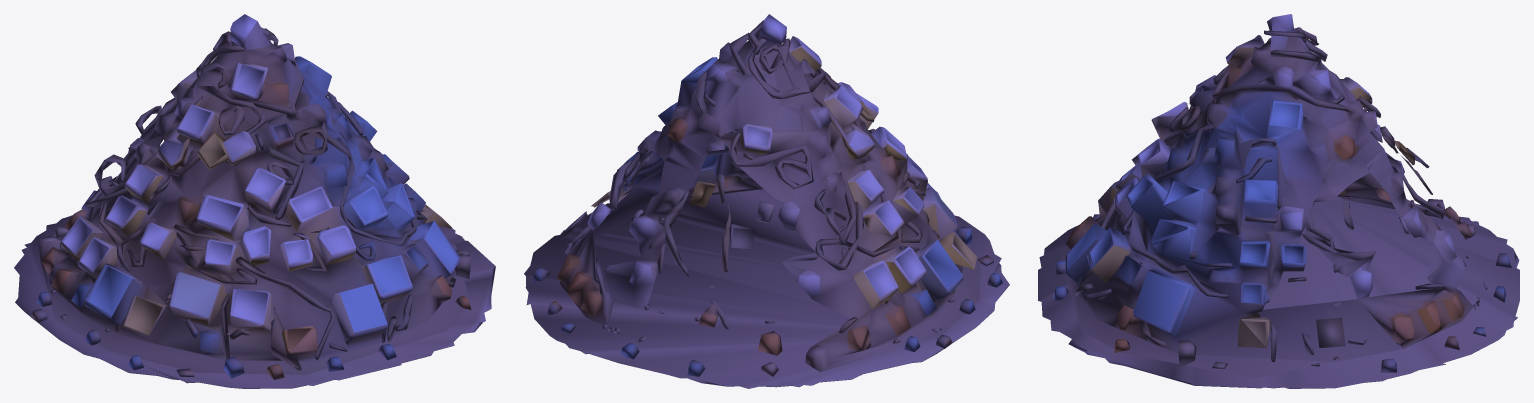
Rendered from model.progressive.glb.
The picture shows the model from 3 angles, left to right: view 1: azimuth 30°, elevation 25°; view 2: azimuth 150°, elevation 25°; view 3: azimuth 270°, elevation 25°; orthographic projection.
Visible parts, largest first — view 1: material; view 2: material; view 3: material.
Part boxes in pixels (bbox=[...]): material: bbox=[14, 14, 495, 388]; material: bbox=[524, 14, 1009, 388]; material: bbox=[1038, 14, 1519, 388].
Size of the model in its own units: 1.89 by 1.18 by 1.9.
Materials: 1 (1 with a texture image).
